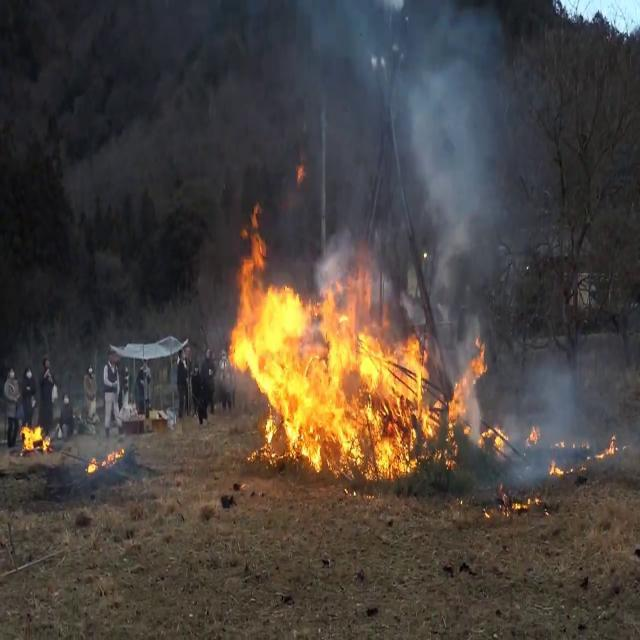Fire: (222, 234, 513, 480), (87, 438, 126, 481), (18, 417, 52, 451)
Smoke: (248, 0, 540, 224), (513, 336, 640, 470)
